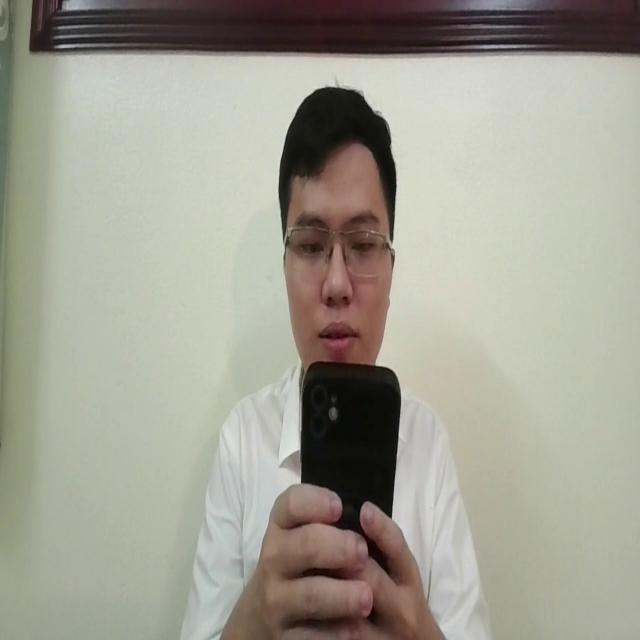phone: (298, 354, 404, 556)
student: (184, 77, 490, 640)
